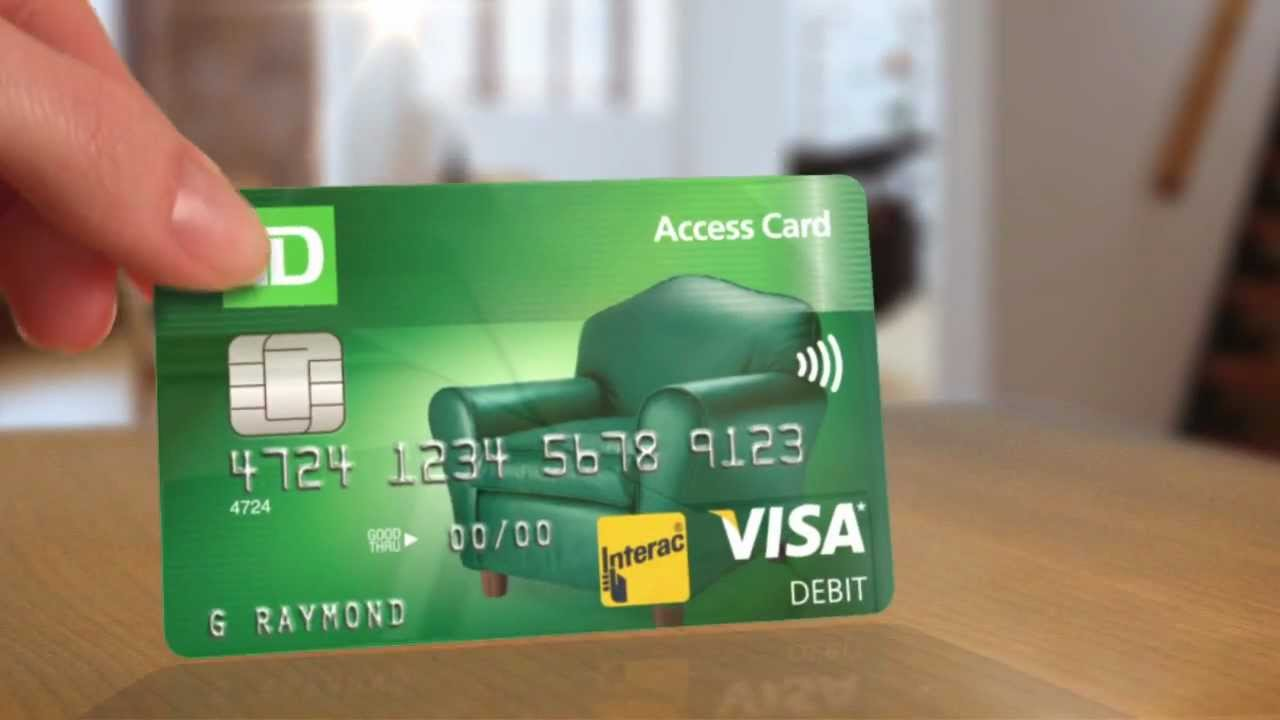tarjeta: (152, 172, 898, 661)
